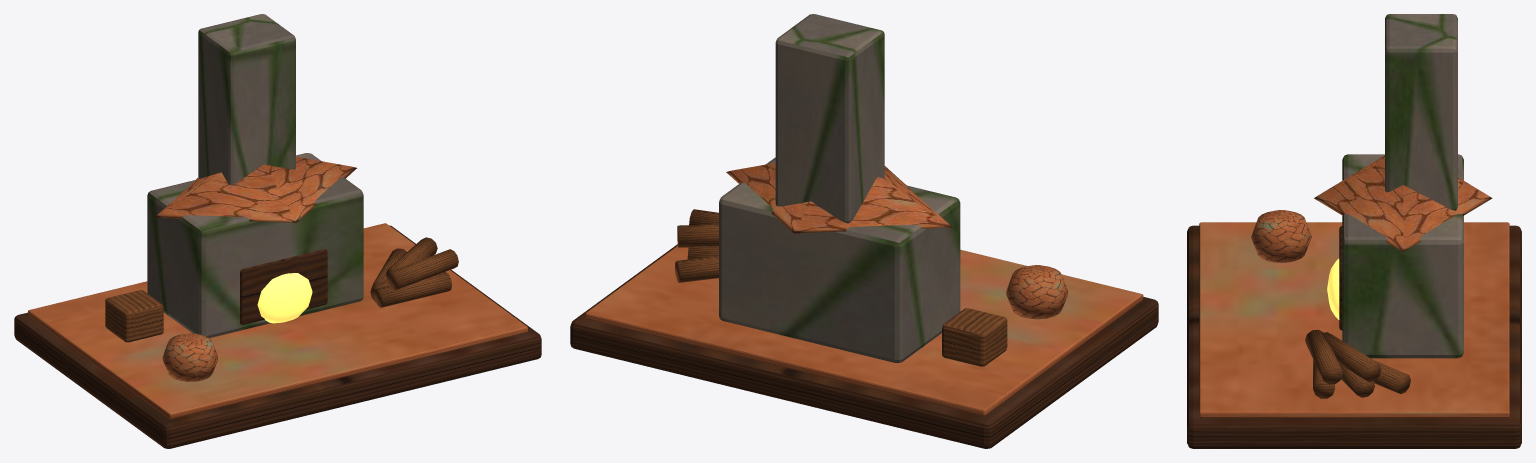
The model's file is mini_1.glb.
The picture shows the model from 3 angles, left to right: view 1: azimuth 30°, elevation 25°; view 2: azimuth 150°, elevation 25°; view 3: azimuth 270°, elevation 25°; orthographic projection. The views are drawn at different scales.
Visible parts, largest first — view 1: mini1_plinth_trim, mini1_hearth_stones, mini1_plinth, mini1_hearth_chimney, mini1_hearth_hood, mini1_log_pile, mini1_hearth_mouth, mini1_stool, mini1_kettle, mini1_hearth_fire; view 2: mini1_hearth_stones, mini1_plinth_trim, mini1_plinth, mini1_hearth_chimney, mini1_hearth_hood, mini1_stool, mini1_kettle, mini1_log_pile; view 3: mini1_plinth_trim, mini1_hearth_stones, mini1_plinth, mini1_hearth_chimney, mini1_hearth_hood, mini1_log_pile, mini1_kettle, mini1_hearth_fire, mini1_hearth_mouth.
Part boxes in pixels (left/top/right/bottom): mini1_plinth_trim: left=28, top=223, right=527, bottom=419; mini1_hearth_stones: left=147, top=153, right=363, bottom=337; mini1_plinth: left=14, top=225, right=541, bottom=448; mini1_hearth_chimney: left=198, top=14, right=295, bottom=184; mini1_hearth_hood: left=154, top=157, right=356, bottom=222; mini1_log_pile: left=370, top=237, right=458, bottom=307; mini1_hearth_mouth: left=240, top=249, right=327, bottom=324; mini1_stool: left=105, top=290, right=163, bottom=342; mini1_kettle: left=162, top=333, right=218, bottom=381; mini1_hearth_fire: left=257, top=273, right=312, bottom=323; mini1_hearth_stones: left=719, top=157, right=960, bottom=362; mini1_plinth_trim: left=585, top=245, right=1143, bottom=415; mini1_plinth: left=570, top=244, right=1158, bottom=448; mini1_hearth_chimney: left=775, top=14, right=884, bottom=223; mini1_hearth_hood: left=726, top=163, right=952, bottom=233; mini1_stool: left=942, top=308, right=1007, bottom=366; mini1_kettle: left=1006, top=265, right=1068, bottom=319; mini1_log_pile: left=675, top=209, right=718, bottom=282; mini1_plinth_trim: left=1199, top=222, right=1509, bottom=417; mini1_hearth_stones: left=1342, top=154, right=1463, bottom=358; mini1_plinth: left=1187, top=225, right=1521, bottom=448; mini1_hearth_chimney: left=1385, top=14, right=1457, bottom=210; mini1_hearth_hood: left=1314, top=155, right=1492, bottom=251; mini1_log_pile: left=1305, top=329, right=1410, bottom=398; mini1_kettle: left=1251, top=210, right=1311, bottom=262; mini1_hearth_fire: left=1327, top=258, right=1339, bottom=319; mini1_hearth_mouth: left=1339, top=226, right=1342, bottom=330.
Bounding box in the file's own units: 0.78 × 0.582 × 0.55.
6 materials, 5 textured.
